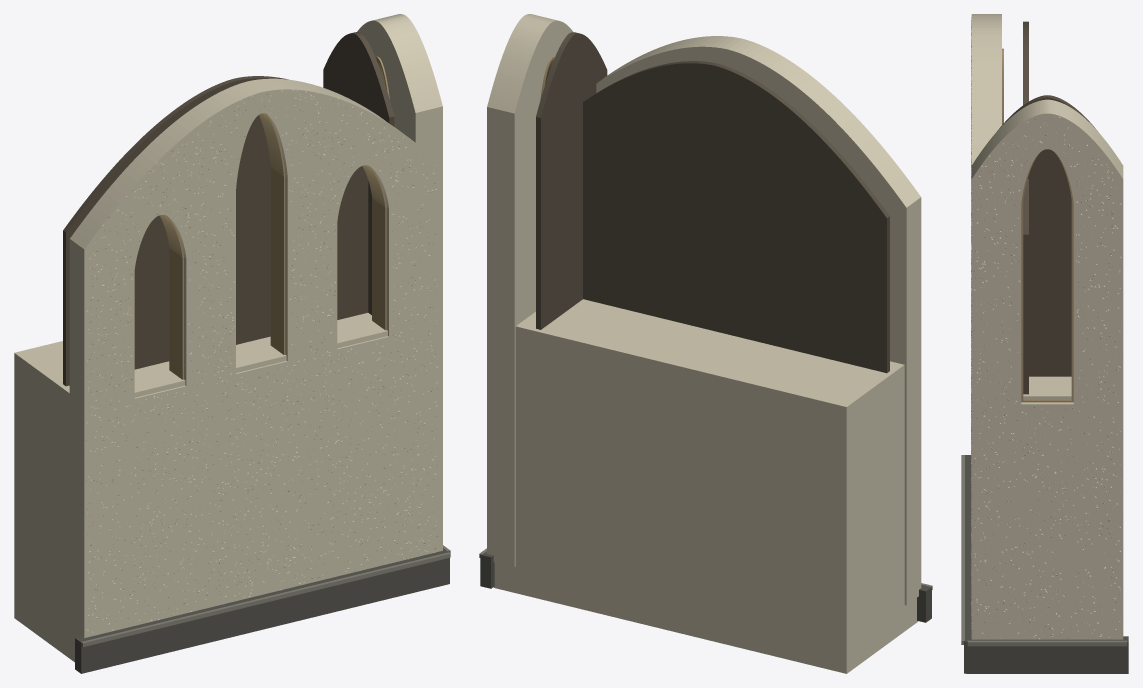
File: changning-yuguang-village-pointed-chimney-raw.glb
The picture shows the model from 3 angles, left to right: view 1: azimuth 30°, elevation 25°; view 2: azimuth 150°, elevation 25°; view 3: azimuth 270°, elevation 25°; orthographic projection. The views are drawn at different scales.
Parts seen in each view (by area): view 1: 渔光邨尖顶烟囱与三联排烟孔; view 2: 渔光邨尖顶烟囱与三联排烟孔; view 3: 渔光邨尖顶烟囱与三联排烟孔.
Boxes of the visible parts, <box> form: 渔光邨尖顶烟囱与三联排烟孔: <box>14,14,450,673</box>; 渔光邨尖顶烟囱与三联排烟孔: <box>479,14,932,673</box>; 渔光邨尖顶烟囱与三联排烟孔: <box>961,14,1128,673</box>.
Bounding box in the file's own units: 1.46 × 2.04 × 0.5515.
